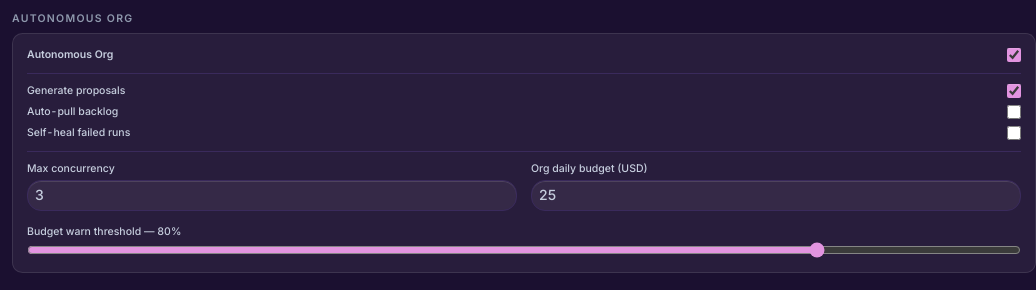
Test: AutonomousOrgSection — P5-B › an out-of-range maxConcurrency on blur reverts the draft instead of PATCHing
The image size is (1036, 290).
Step 1. Replace the text in the number field with test id "autonomy-maxConcurrency" with "99" → coordinates (272, 195), box [27, 180, 517, 210]
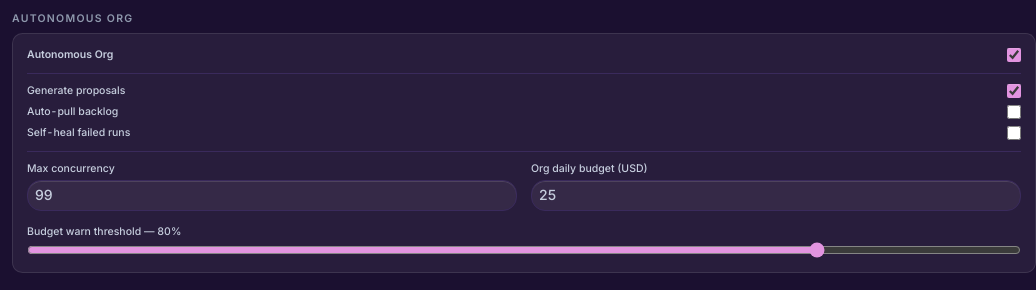
Step 2. Leave the number field with test id "autonomy-maxConcurrency", box [27, 180, 517, 210]
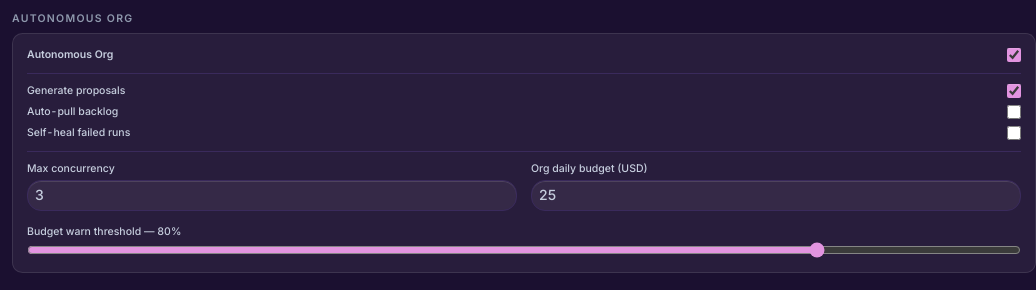
Now the number field with test id "autonomy-maxConcurrency" holds "3", box [27, 180, 517, 210]
